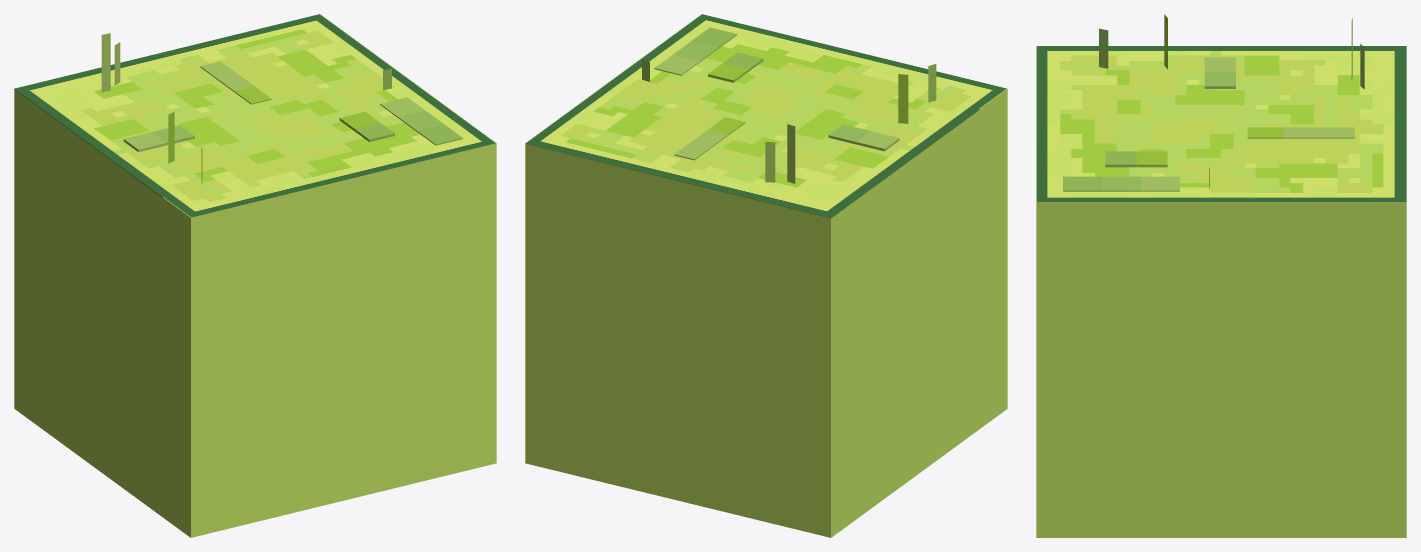
Rendered from grasstile3.fbx.
3 renders of one model, left to right at view 1: azimuth 30°, elevation 25°; view 2: azimuth 150°, elevation 25°; view 3: azimuth 270°, elevation 25°, orthographic. The views are drawn at different scales.
Parts seen in each view (by area): view 1: grasstile_3; view 2: grasstile_3; view 3: grasstile_3.
Part boxes in pixels (bbox=[...]): grasstile_3: bbox=[14, 14, 496, 537]; grasstile_3: bbox=[525, 14, 1007, 537]; grasstile_3: bbox=[1036, 14, 1406, 537].
Size of the model in its own units: 5 by 5.9 by 5.
2 materials, 2 textured.
